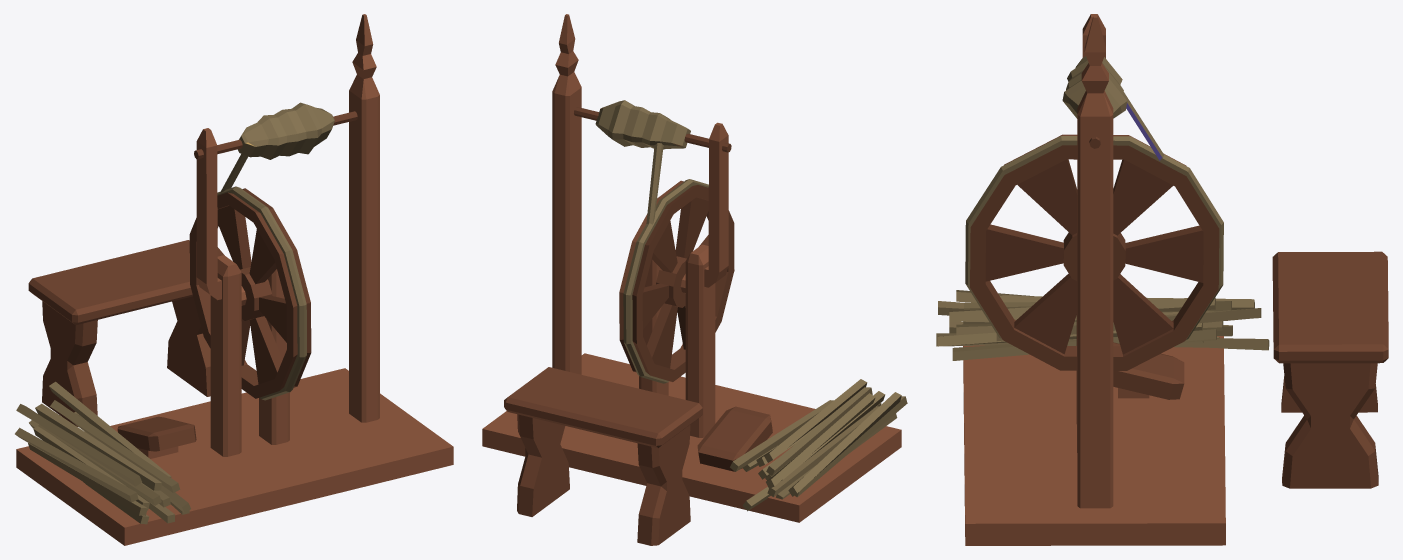
Rendered from spinning_wheel.fbx.
3 renders of one model, left to right at view 1: azimuth 30°, elevation 25°; view 2: azimuth 150°, elevation 25°; view 3: azimuth 270°, elevation 25°, orthographic. The views are drawn at different scales.
Visible parts, largest first — view 1: spinning_rack.001, stool.001, spinning_wheel.001, flax, spindle.001, spinning_pedal.001; view 2: spinning_rack.001, stool.001, spinning_wheel.001, flax, spindle.001, spinning_pedal.001, thread.001; view 3: spinning_rack.001, spinning_wheel.001, stool.001, flax, spinning_pedal.001, spindle.001.
Boxes of the visible parts, bbox=[...] form: spinning_rack.001: bbox=[16, 14, 453, 545]; stool.001: bbox=[28, 240, 210, 426]; spinning_wheel.001: bbox=[189, 186, 311, 400]; flax: bbox=[15, 381, 190, 524]; spindle.001: bbox=[194, 102, 357, 159]; spinning_pedal.001: bbox=[117, 416, 196, 451]; spinning_rack.001: bbox=[482, 14, 901, 522]; stool.001: bbox=[504, 367, 702, 545]; spinning_wheel.001: bbox=[619, 179, 734, 383]; flax: bbox=[730, 379, 907, 511]; spindle.001: bbox=[574, 100, 731, 152]; spinning_pedal.001: bbox=[697, 406, 772, 471]; thread.001: bbox=[646, 143, 663, 224]; spinning_rack.001: bbox=[963, 14, 1225, 545]; spinning_wheel.001: bbox=[965, 134, 1223, 370]; stool.001: bbox=[1272, 251, 1388, 488]; flax: bbox=[936, 290, 1269, 360]; spinning_pedal.001: bbox=[1113, 342, 1184, 399]; spindle.001: bbox=[1062, 56, 1127, 148].
Bounding box in the file's own units: 61.51 × 74.55 × 60.16.
